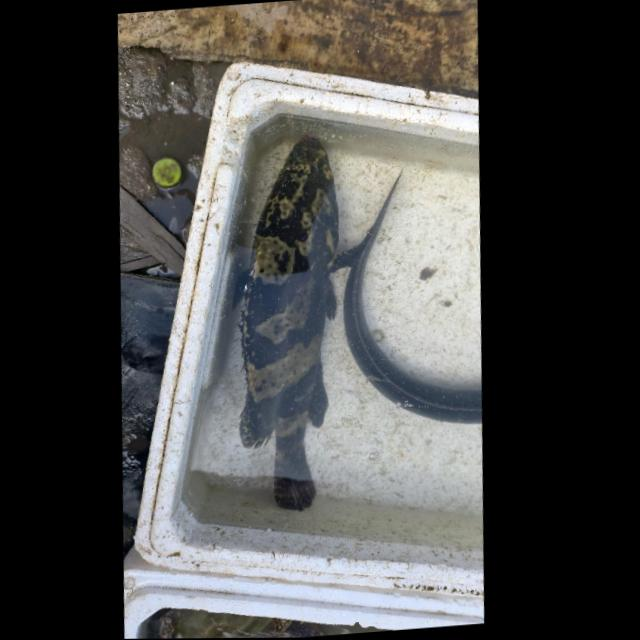Groupers: (211, 134, 367, 515)
